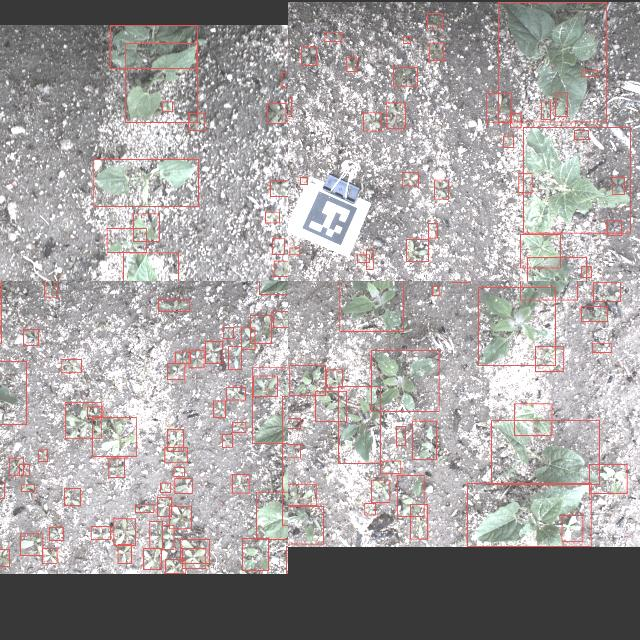crop: (498, 2, 606, 122), (522, 127, 630, 233), (466, 483, 590, 547), (491, 420, 599, 484), (478, 287, 554, 365), (125, 42, 197, 122), (92, 159, 198, 207), (370, 351, 438, 412), (110, 24, 196, 68), (337, 386, 379, 464), (339, 281, 403, 330), (251, 368, 288, 444), (0, 361, 25, 424), (255, 492, 288, 539), (122, 253, 177, 281), (526, 257, 585, 281), (519, 234, 559, 268), (513, 404, 551, 436), (519, 281, 576, 300)
weed: (92, 418, 136, 457), (64, 402, 100, 438), (288, 506, 322, 544), (289, 364, 325, 396), (588, 464, 626, 494), (396, 476, 424, 516), (314, 391, 346, 422), (106, 228, 146, 252), (412, 420, 436, 460), (242, 539, 268, 571), (534, 346, 564, 372), (133, 213, 159, 241), (486, 93, 510, 123), (180, 540, 208, 564), (113, 518, 135, 546), (409, 504, 426, 540), (288, 484, 315, 506), (250, 315, 270, 343), (592, 282, 620, 302), (169, 506, 191, 530), (562, 516, 582, 542), (406, 239, 428, 261), (20, 534, 42, 556), (181, 549, 205, 569), (253, 376, 277, 396), (386, 102, 404, 128), (393, 66, 417, 85), (266, 102, 286, 124), (581, 306, 607, 322), (204, 341, 222, 363), (143, 548, 161, 570), (371, 480, 389, 502), (148, 522, 162, 548), (158, 299, 188, 311), (167, 429, 183, 451), (363, 113, 381, 131), (232, 474, 248, 494), (108, 458, 124, 478), (240, 327, 254, 349), (164, 560, 186, 574), (164, 448, 186, 462), (269, 181, 288, 197), (188, 112, 204, 130), (300, 47, 316, 65), (555, 92, 567, 116), (161, 526, 173, 550), (174, 478, 192, 494), (156, 498, 172, 516), (188, 350, 204, 368), (166, 363, 184, 379), (64, 488, 80, 506), (518, 173, 532, 193), (117, 544, 131, 564), (90, 526, 110, 540), (228, 346, 240, 369), (428, 42, 444, 59), (326, 369, 342, 386), (60, 360, 82, 372), (380, 461, 400, 474), (426, 12, 442, 28), (22, 329, 38, 345), (433, 180, 447, 198), (8, 458, 22, 476), (273, 261, 288, 277), (273, 311, 288, 327), (402, 172, 418, 186), (607, 220, 621, 236), (42, 548, 56, 564), (226, 388, 244, 400), (213, 400, 225, 418), (43, 281, 56, 297), (611, 178, 623, 195), (395, 426, 405, 446), (271, 238, 283, 254), (174, 352, 190, 364), (324, 32, 342, 42), (592, 343, 610, 353), (49, 528, 63, 540), (264, 212, 280, 222), (346, 56, 356, 72), (540, 102, 550, 118), (510, 112, 520, 128), (134, 505, 154, 513), (86, 407, 102, 417), (288, 444, 299, 458), (574, 130, 588, 140), (221, 434, 231, 448), (231, 422, 245, 432), (0, 549, 8, 566), (428, 224, 437, 238), (366, 250, 372, 270), (581, 266, 591, 278), (503, 135, 513, 147), (222, 328, 234, 338), (18, 464, 28, 476), (288, 418, 299, 428), (281, 72, 288, 87), (21, 484, 34, 492), (162, 101, 172, 111), (173, 467, 183, 477), (160, 483, 170, 493), (364, 504, 374, 514), (581, 70, 597, 76), (357, 255, 369, 263), (38, 450, 46, 462), (289, 248, 299, 255), (432, 285, 438, 295), (402, 36, 410, 42), (300, 178, 306, 185)
